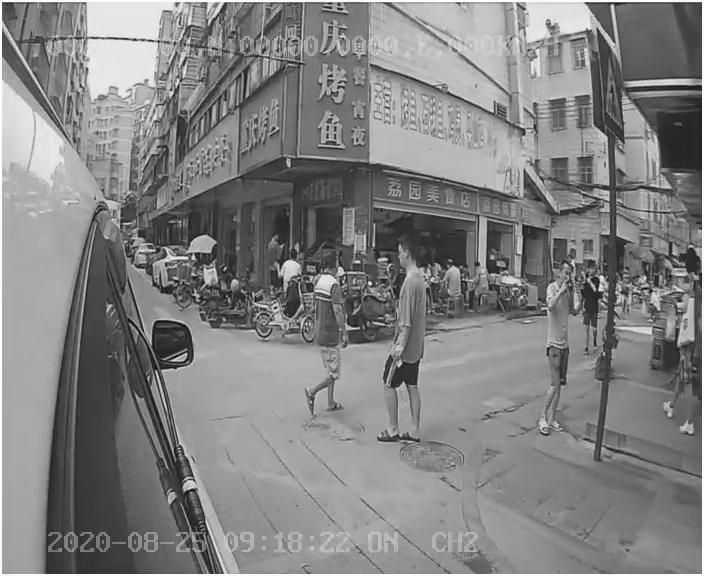person: (370, 242, 453, 441), (296, 253, 369, 418), (532, 262, 587, 442)
